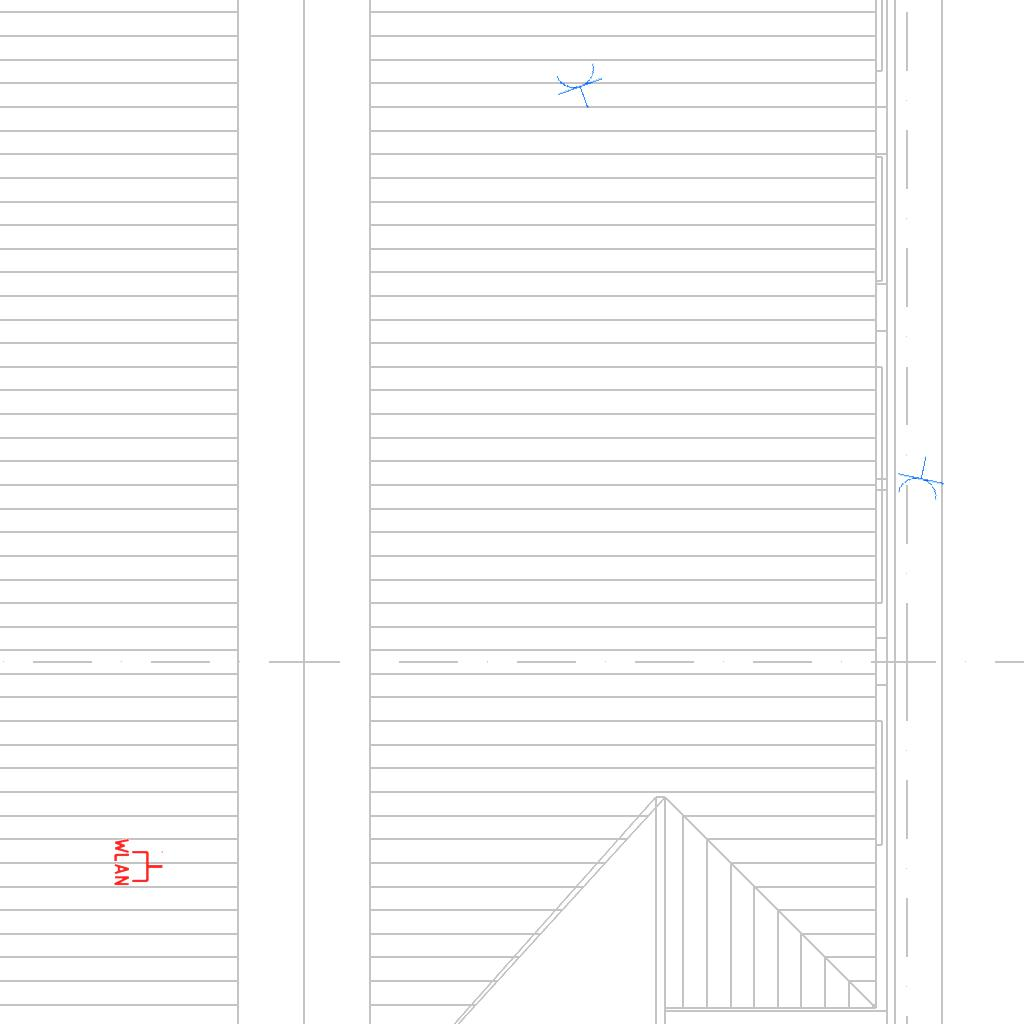Schukosteckdose_einfach: (550, 58, 612, 117), (892, 451, 950, 504)
WLAN: (113, 836, 165, 888)
